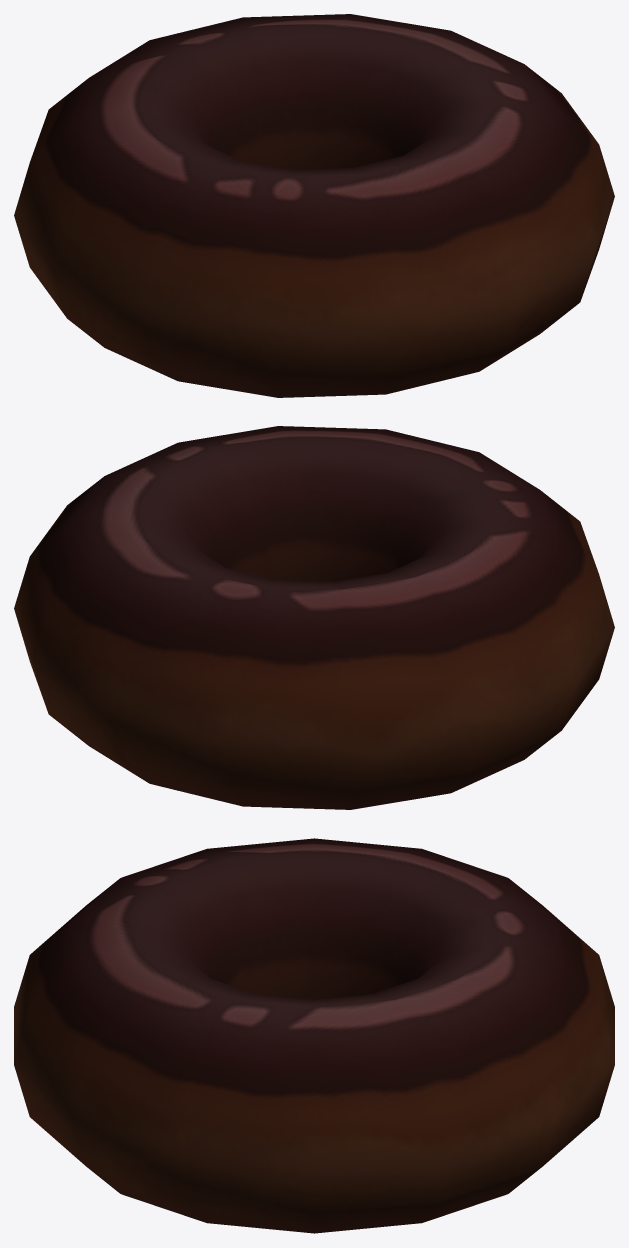
The model's file is 007-Donut_05.FBX.
The picture shows the model from 3 angles, top to bottom: view 1: azimuth 30°, elevation 25°; view 2: azimuth 150°, elevation 25°; view 3: azimuth 270°, elevation 25°; orthographic projection. The views are drawn at different scales.
Parts seen in each view (by area): view 1: 007-Donut_05; view 2: 007-Donut_05; view 3: 007-Donut_05.
Boxes of the visible parts, box(x1,y1,x2,y2) form: 007-Donut_05: box(14, 14, 614, 397); 007-Donut_05: box(14, 426, 614, 809); 007-Donut_05: box(14, 838, 614, 1233).
Size of the model in its own units: 15.8 by 6.06 by 15.4.
